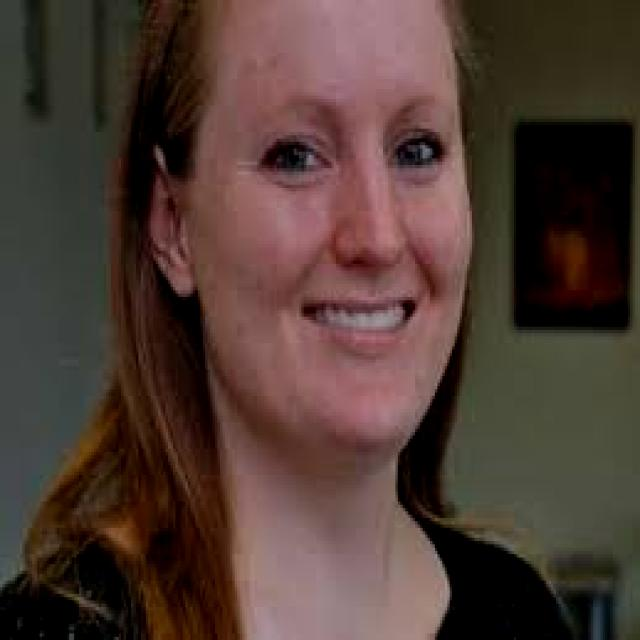normal_face: (126, 0, 482, 462)
